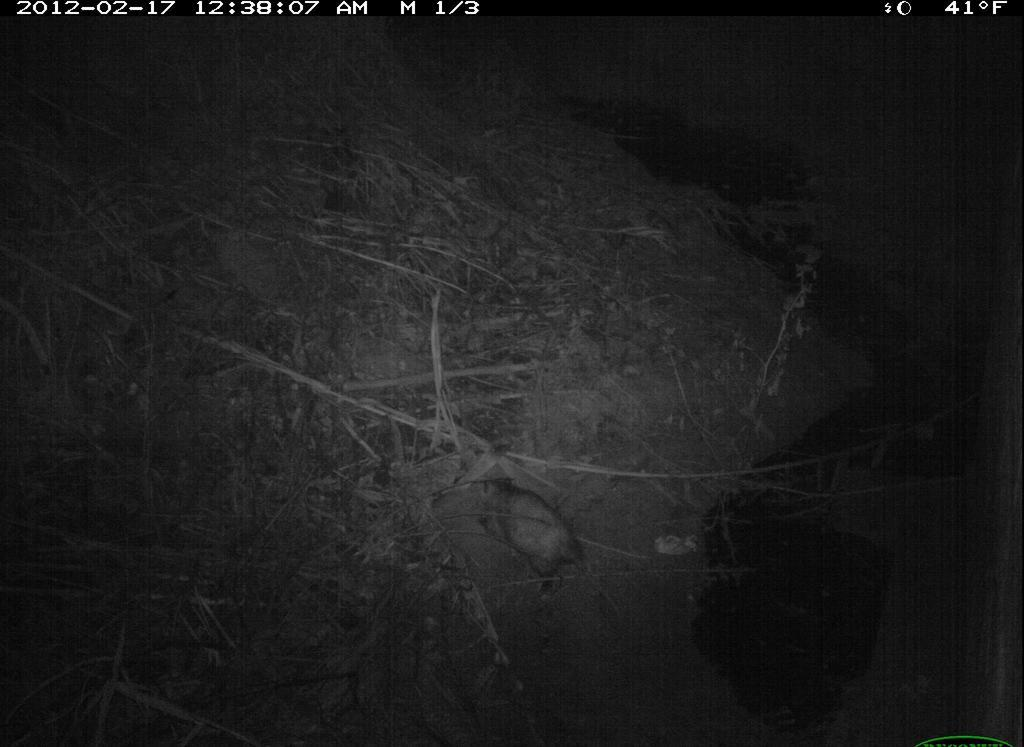opossum: (474, 476, 625, 621)
